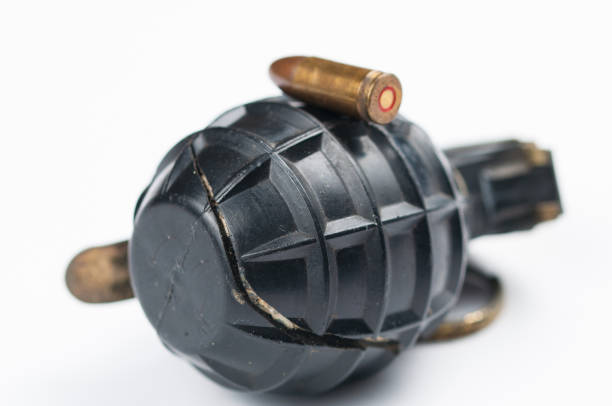e1: (131, 97, 565, 403)
